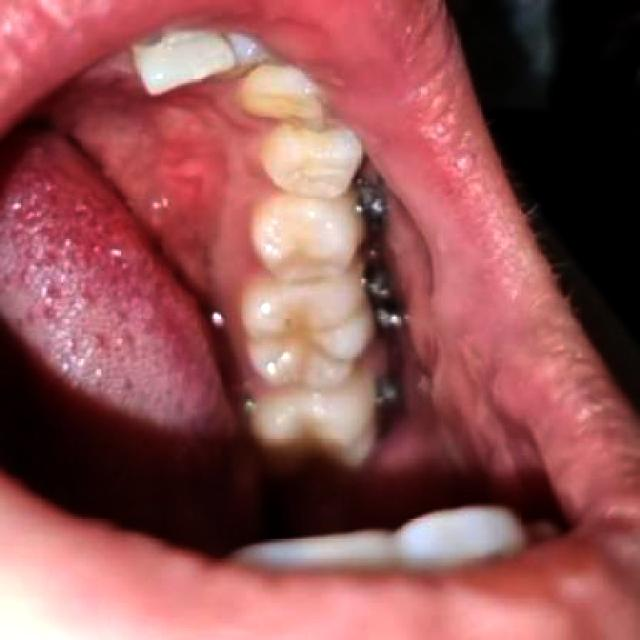Plaque: (265, 302, 309, 346)
